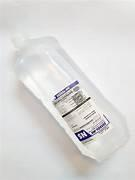Iv_Bottle: (16, 37, 127, 160)
